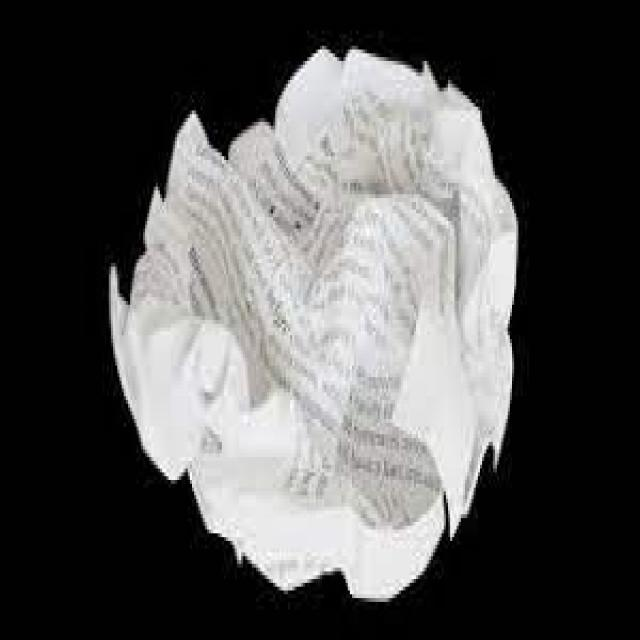Paper -Biodegradable-: (114, 38, 513, 604)
